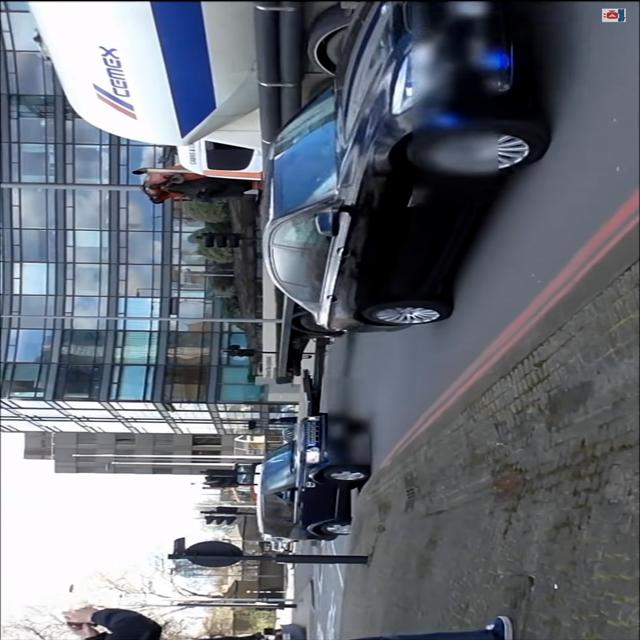emergency-vehicles: (251, 0, 561, 341), (236, 409, 384, 547)
